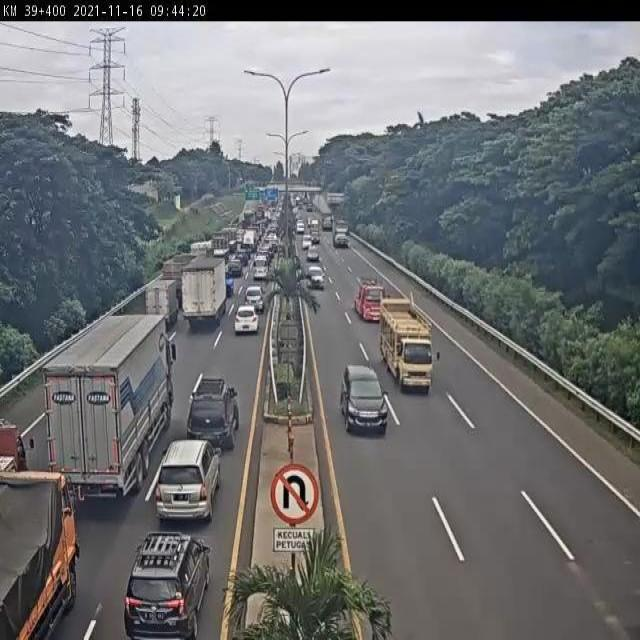Car: (123, 531, 211, 640), (156, 437, 222, 522), (186, 376, 240, 452), (340, 364, 388, 434), (354, 277, 384, 322), (272, 361, 296, 404), (348, 151, 380, 178), (234, 304, 259, 335), (270, 195, 287, 233), (244, 284, 265, 312), (320, 158, 334, 198), (248, 157, 264, 186), (61, 482, 73, 518), (306, 265, 324, 288), (333, 223, 349, 248), (158, 329, 168, 361), (409, 289, 420, 318), (227, 258, 243, 277), (262, 240, 278, 259), (253, 263, 269, 281), (232, 250, 248, 266), (254, 253, 268, 270), (209, 202, 226, 216), (176, 242, 192, 256), (361, 277, 380, 288), (307, 246, 320, 262), (274, 158, 283, 181), (264, 265, 276, 282), (266, 232, 278, 248), (198, 193, 215, 204), (169, 340, 176, 366), (310, 195, 321, 211), (340, 388, 347, 413), (273, 242, 285, 256), (229, 216, 241, 230), (269, 273, 280, 288), (295, 204, 305, 220), (226, 165, 232, 191), (322, 216, 333, 230), (293, 254, 302, 271), (296, 184, 306, 199), (302, 236, 312, 250), (354, 292, 361, 312), (296, 267, 304, 284), (223, 209, 236, 219), (311, 230, 320, 244), (271, 351, 278, 369), (227, 386, 237, 398), (340, 224, 349, 236), (0, 418, 12, 427), (311, 219, 319, 232), (296, 221, 304, 234), (288, 194, 296, 207), (291, 168, 298, 182), (396, 342, 402, 356), (237, 176, 244, 187), (356, 276, 363, 287), (307, 216, 314, 226), (247, 180, 254, 190), (225, 261, 231, 272), (191, 207, 199, 214), (306, 203, 312, 212), (286, 312, 291, 321), (295, 196, 300, 204)
Truck: (45, 310, 176, 503), (0, 466, 79, 640), (378, 292, 434, 392), (180, 254, 228, 330), (14, 406, 55, 476), (145, 278, 179, 329), (157, 328, 177, 407), (122, 283, 161, 317), (0, 419, 25, 472), (379, 297, 413, 335), (161, 258, 193, 291), (247, 186, 280, 203), (168, 253, 196, 272), (210, 233, 231, 258), (255, 203, 273, 230), (219, 227, 238, 252), (241, 229, 257, 253), (190, 241, 212, 256), (252, 219, 266, 242), (327, 192, 344, 206), (242, 210, 254, 228)
